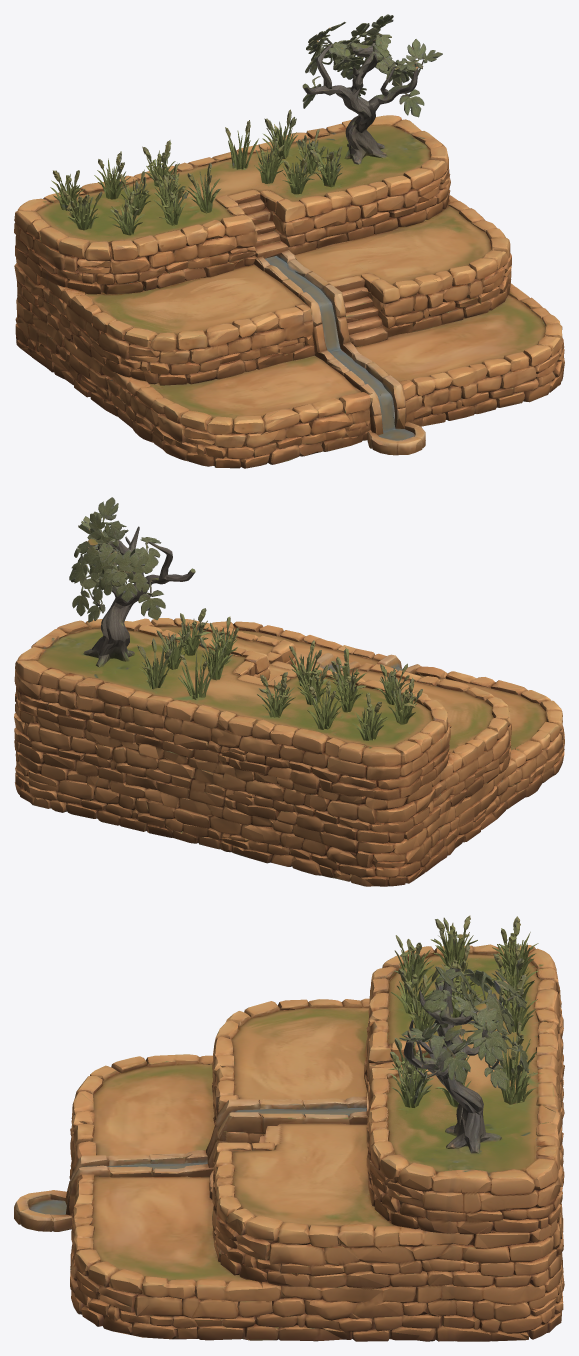
File: terraces-hero.glb
The picture shows the model from 3 angles, top to bottom: view 1: azimuth 30°, elevation 25°; view 2: azimuth 150°, elevation 25°; view 3: azimuth 270°, elevation 25°; orthographic projection. The views are drawn at different scales.
Visible parts, largest first — view 1: mesh_node; view 2: mesh_node; view 3: mesh_node.
Part boxes in pixels (box(x1,y1,x2,y2)): mesh_node: box(14, 14, 564, 468); mesh_node: box(14, 497, 564, 886); mesh_node: box(14, 915, 564, 1341).
Bounding box in the file's own units: 1.9 × 1.27 × 1.87.
Materials: 1 (1 with a texture image).
